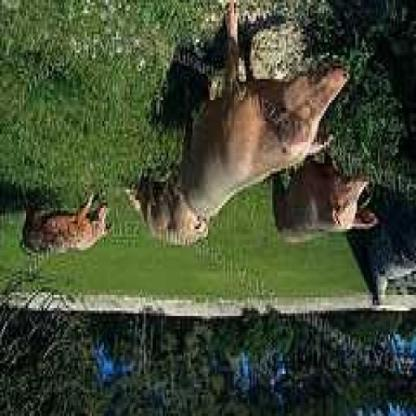boar: (150, 25, 364, 220), (255, 157, 382, 271), (0, 175, 128, 269)
